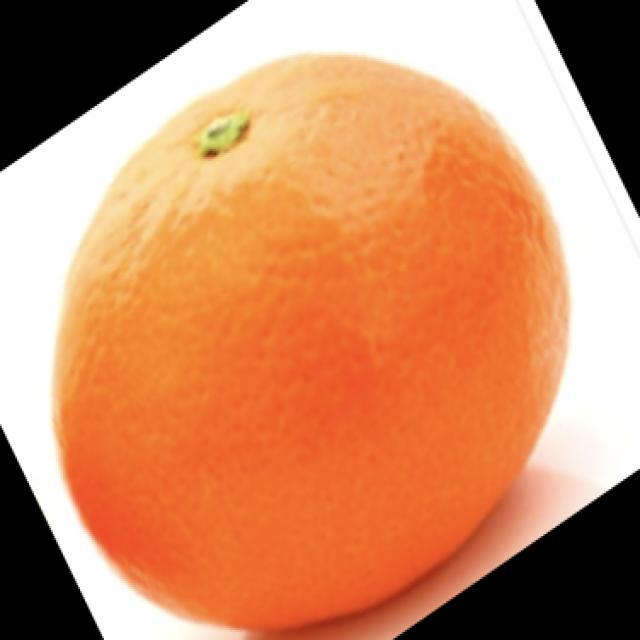Orange: (50, 50, 571, 634)
